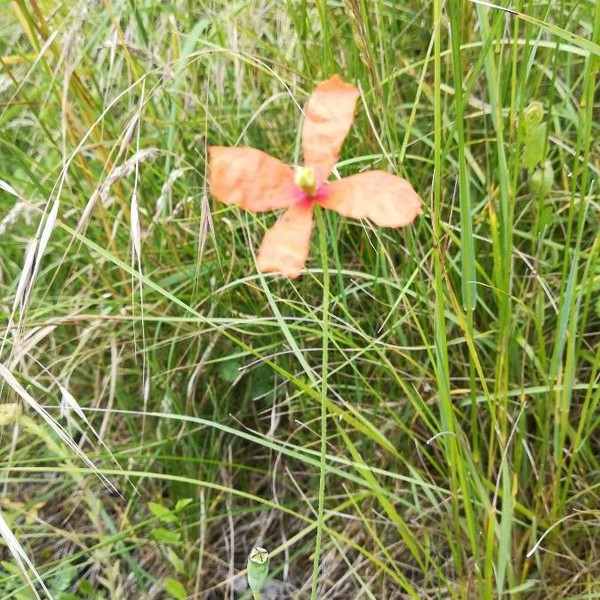obstacle: (170, 101, 559, 567)
